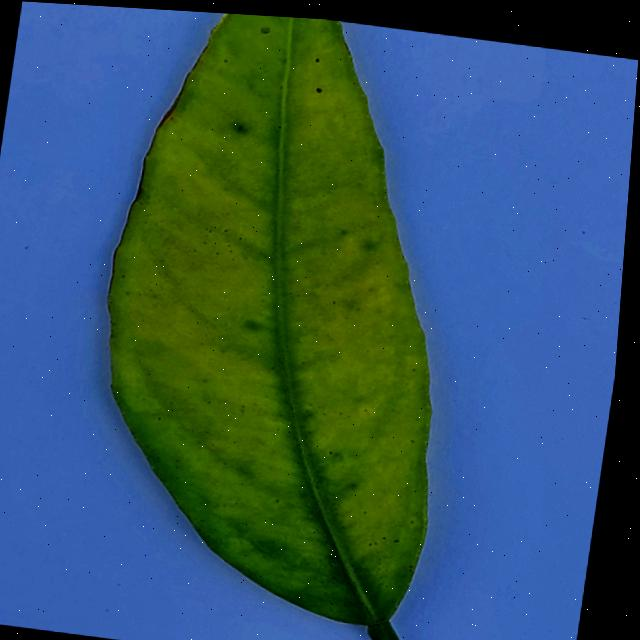greening: (109, 13, 430, 640)
